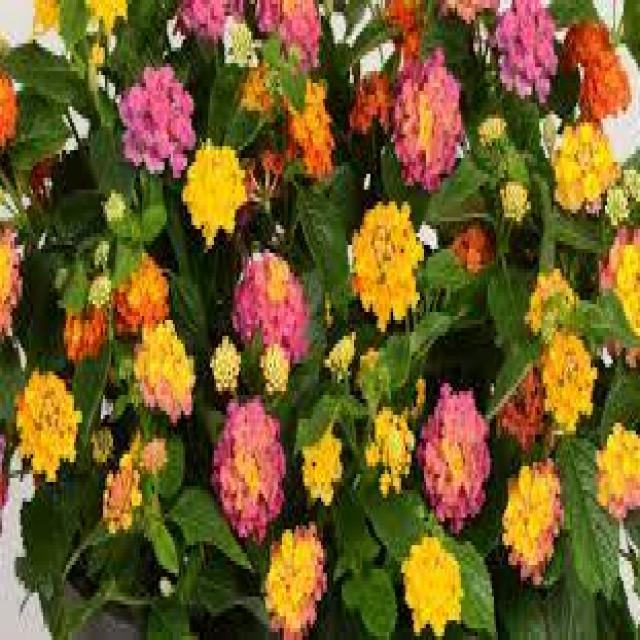organic waste: (420, 384, 492, 530), (353, 195, 425, 330), (235, 245, 317, 363), (387, 57, 465, 180), (219, 407, 285, 537), (177, 138, 249, 245), (18, 365, 82, 480), (262, 524, 326, 630), (134, 320, 202, 419), (125, 71, 198, 162), (115, 250, 181, 350), (504, 460, 564, 567), (541, 330, 599, 440), (550, 120, 616, 216), (399, 534, 471, 620), (492, 10, 558, 101), (284, 71, 340, 178), (95, 442, 154, 534), (522, 258, 579, 346), (292, 413, 342, 504), (365, 393, 415, 484), (205, 326, 250, 397), (266, 340, 298, 399), (321, 328, 356, 379)
